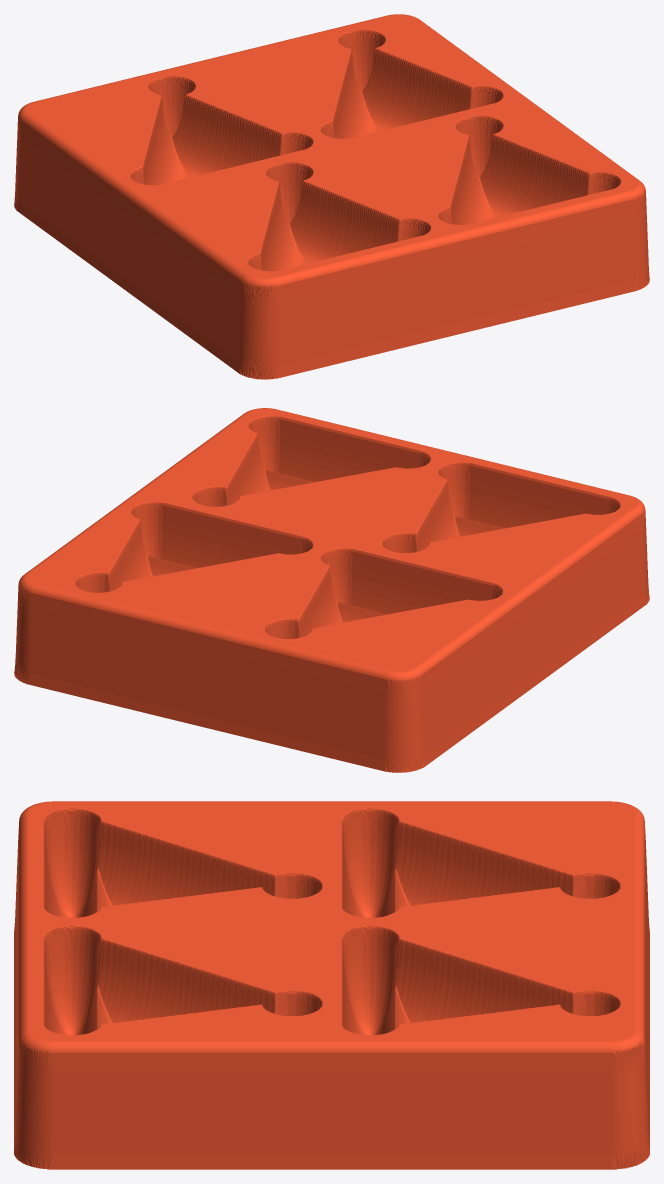
The model's file is mold.glb.
3 views of the same model, one above another, from view 1: azimuth 30°, elevation 25°; view 2: azimuth 150°, elevation 25°; view 3: azimuth 270°, elevation 25° (orthographic). The views are drawn at different scales.
Parts seen in each view (by area): view 1: geometry_0; view 2: geometry_0; view 3: geometry_0.
Boxes of the visible parts, x1,y1,x2,y2 form: geometry_0: (14, 14, 649, 379); geometry_0: (14, 408, 649, 772); geometry_0: (14, 801, 649, 1169).
Bounding box in the file's own units: 0.1374 × 0.031 × 0.1466.
